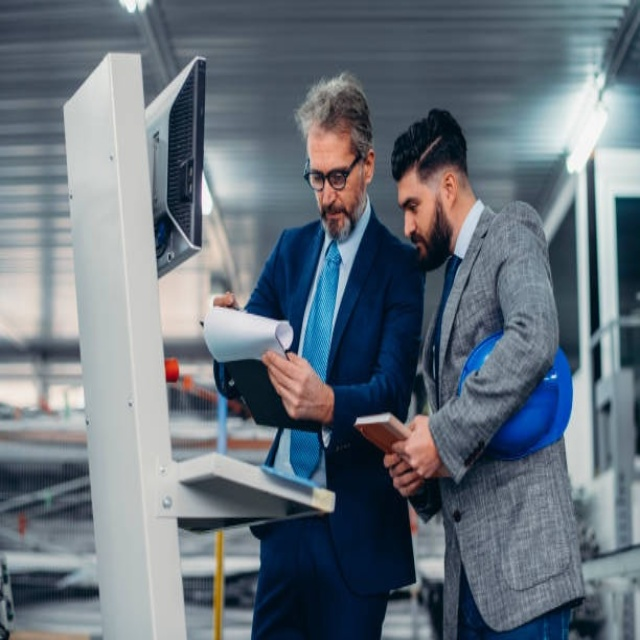Gafas: (304, 151, 363, 192)
Sin_gafas: (396, 185, 430, 215)
Sin_guantes: (259, 348, 328, 424), (381, 413, 443, 483)
Sin_mascara: (320, 201, 345, 229), (407, 231, 431, 259)
